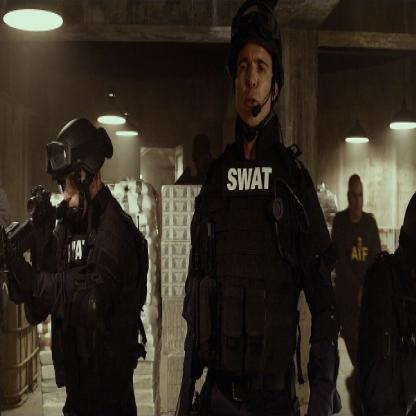Gun: (0, 182, 72, 293)
